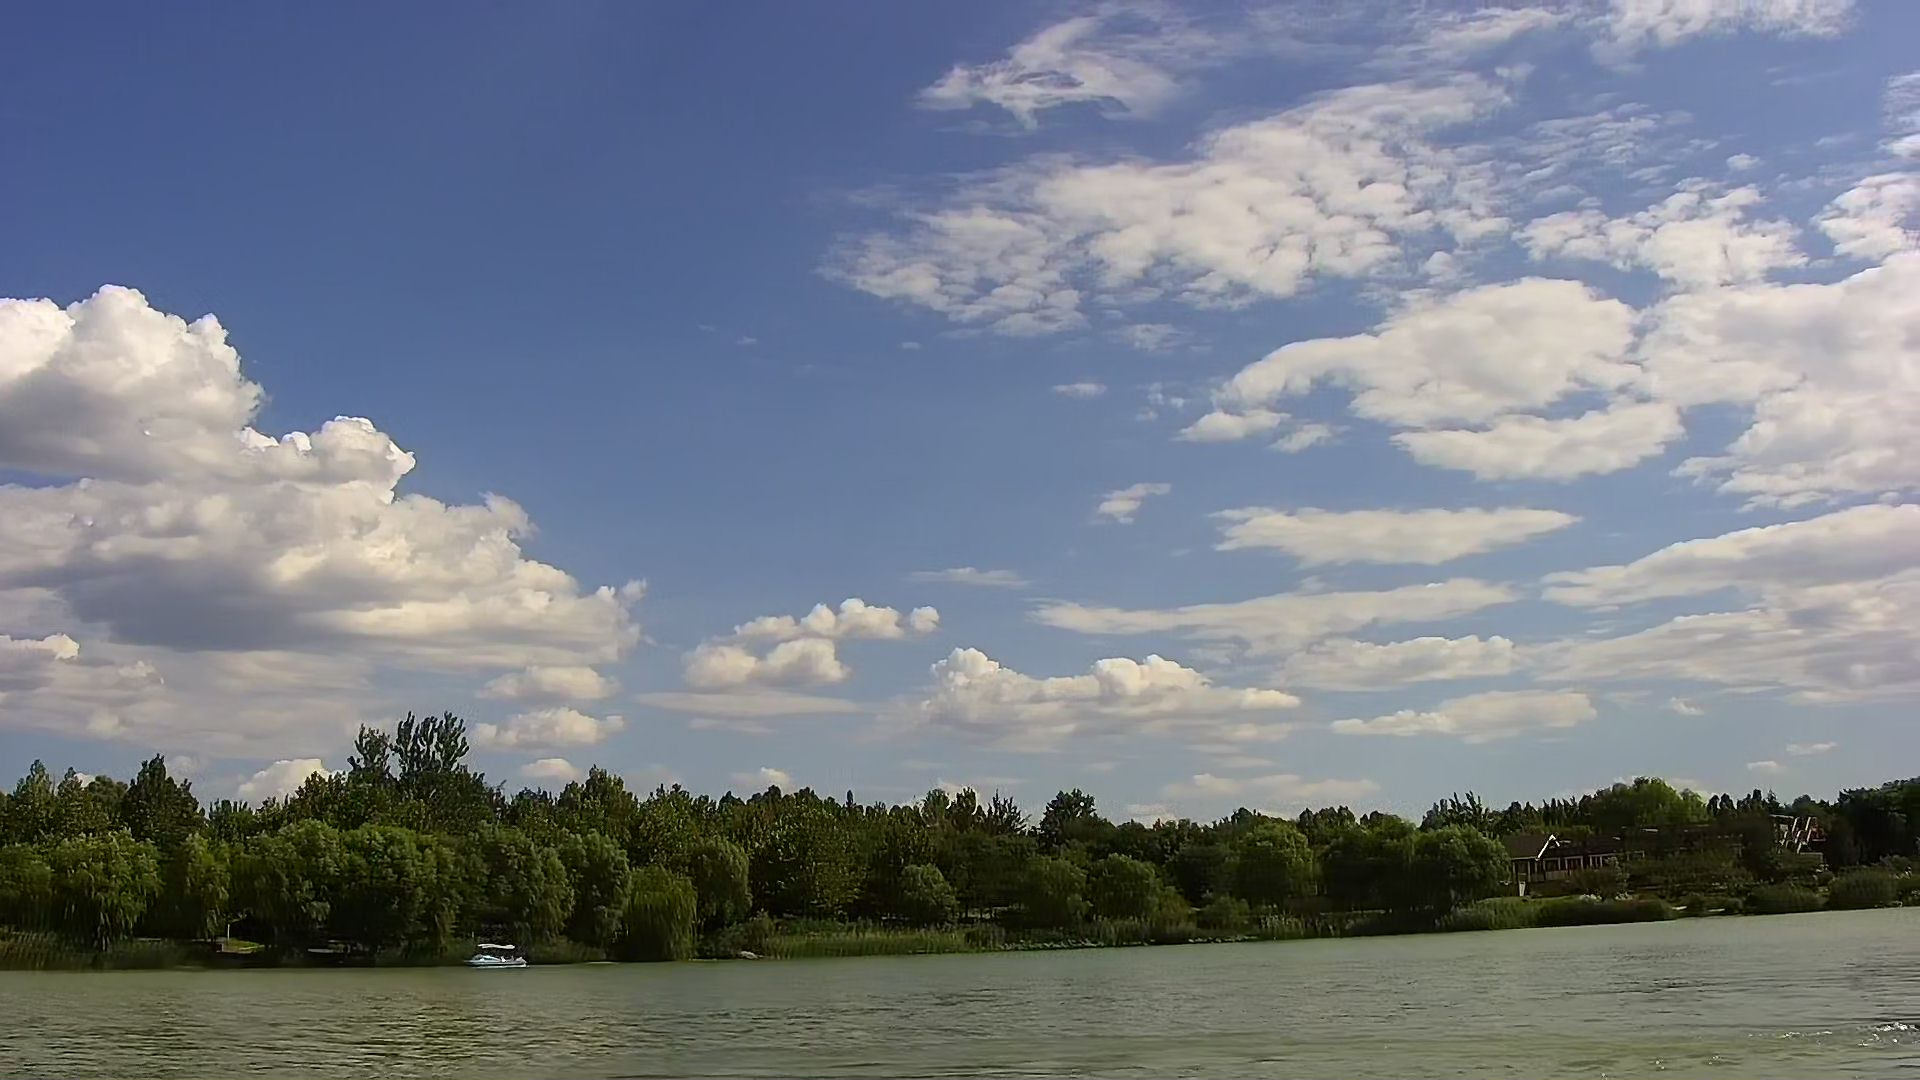boat: (467, 940, 530, 972)
